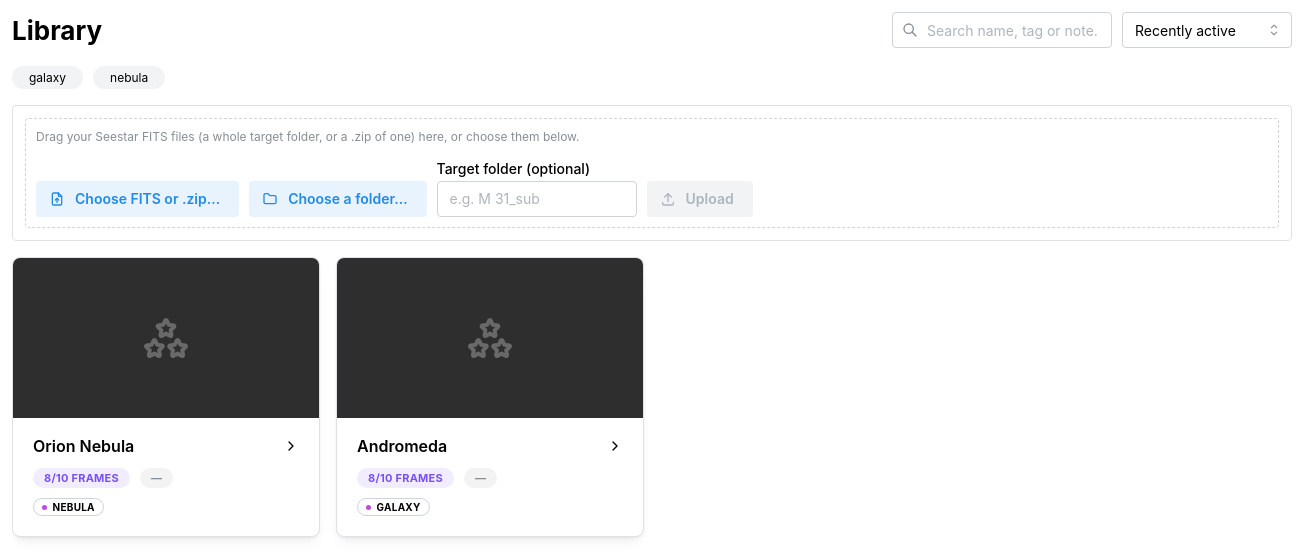
Library › filters targets by search text and by tag
Expected: the text "Orion Nebula" is shown, [33, 434, 134, 458]
Expected: the text "Andromeda" is shown, [357, 434, 447, 458]
Type "andro" into the field with placeholder "Search name, tag or note…".
click(1002, 30); type("andro")  # box [892, 12, 1112, 48]
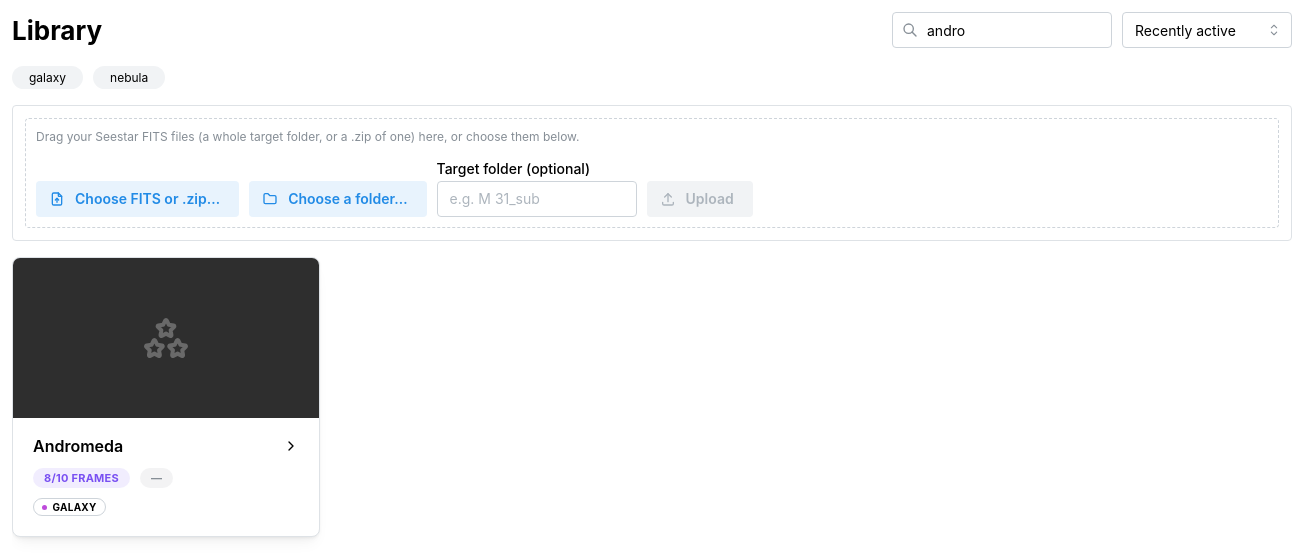
Expected: the text "Andromeda" is shown, [33, 434, 123, 458]
Now the link "Orion Nebula" is gone
Clear the field with placeholder "Search name, tag or note…" at [1002, 30], box [892, 12, 1112, 48]
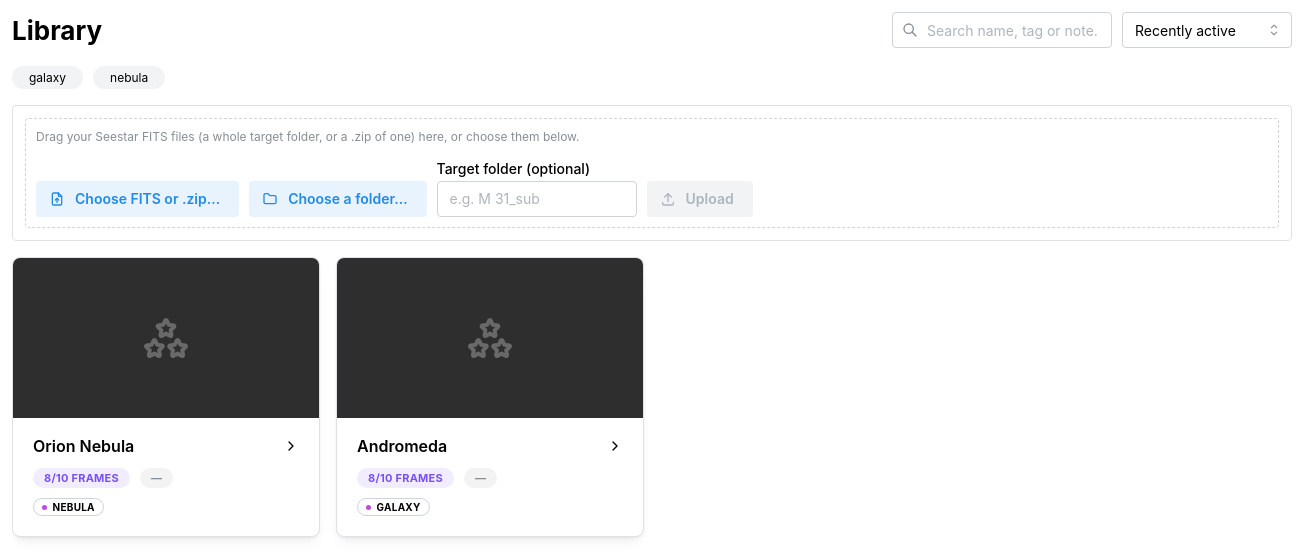
Now the text "Orion Nebula" is shown, box [33, 434, 134, 458]
// Filter by the "nebula" tag chip (the Chip renders a checkbox input).
Click the checkbox labelled "nebula".
click(129, 78)  # box [93, 66, 165, 89]
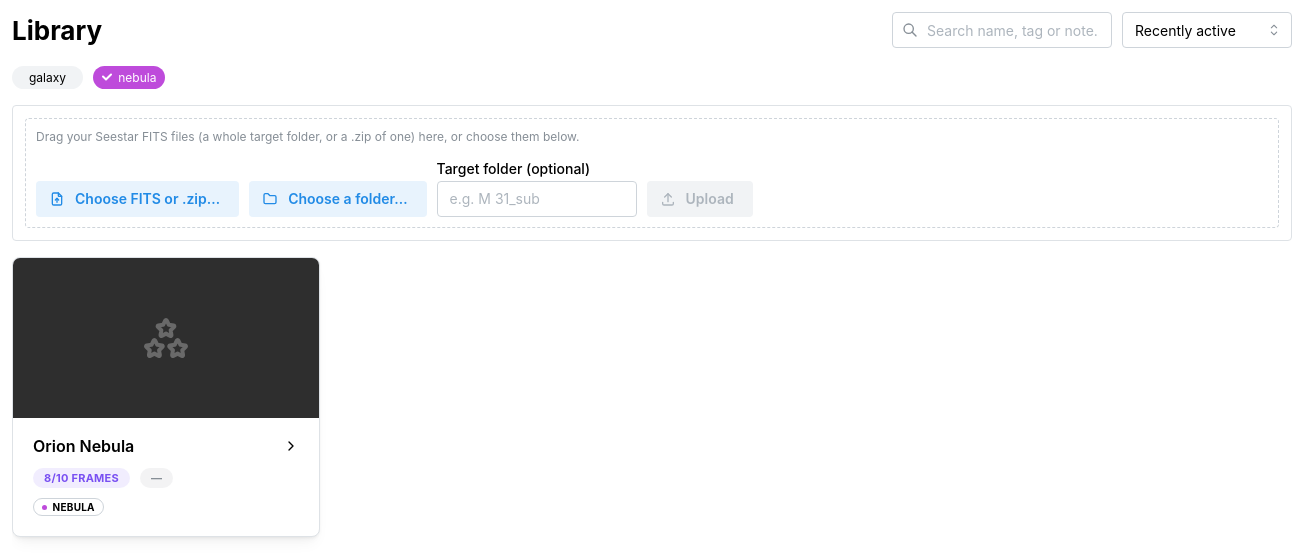
Now the text "Orion Nebula" is shown, box [33, 434, 134, 458]
Now the link "Andromeda" is gone
